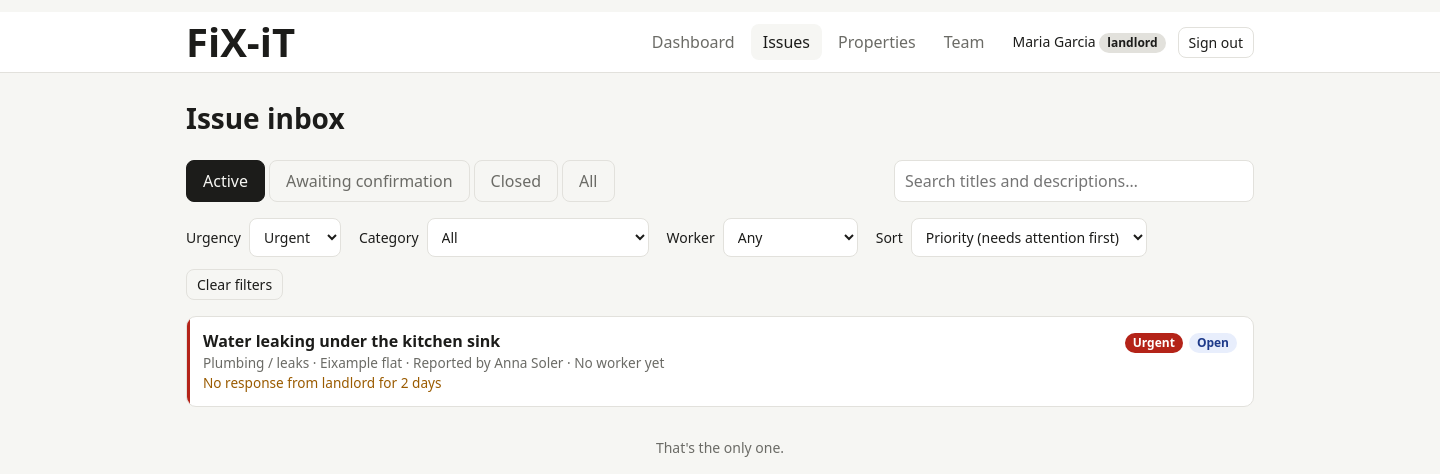
Test: pagination › search, urgency, category and sort go to the API and stay in the URL
Expected: the dropdown labelled "Urgency" shows "Urgent", [249,218,341,257]
Select "Plumbing / leaks" in the dropdown labelled "Category" at [538, 238], box [427,218,649,257]
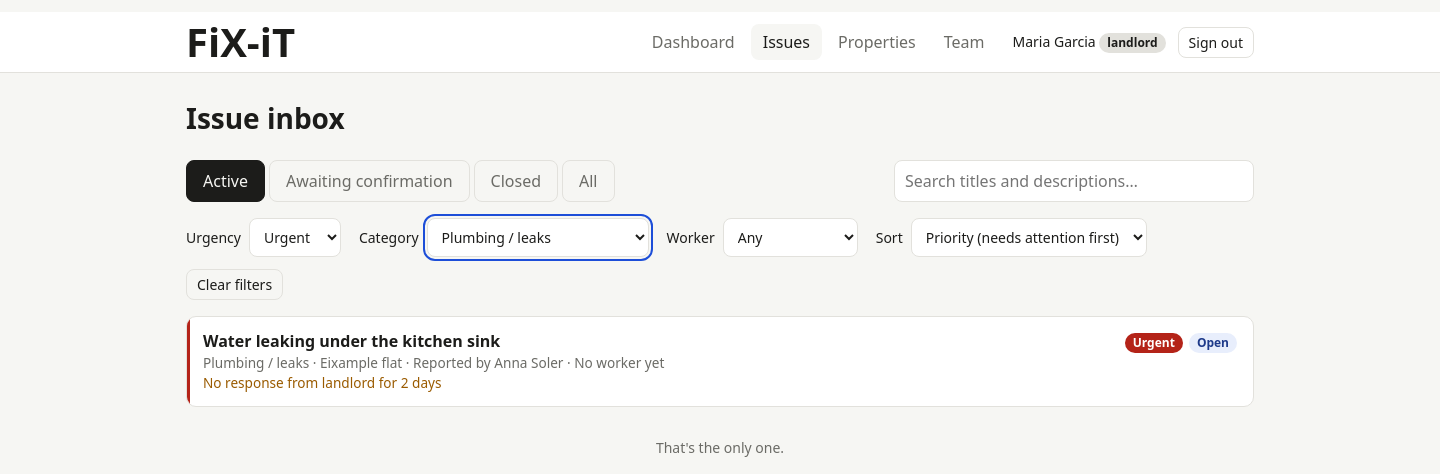
Select "Newest first" in the dropdown labelled "Sort" at [1029, 238], box [911,218,1147,257]
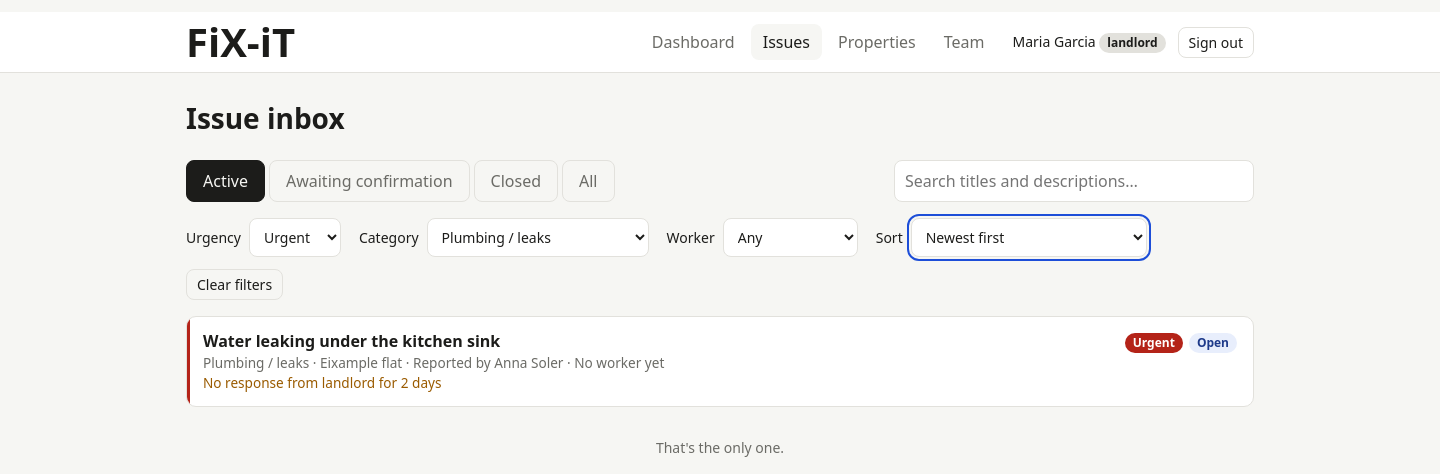
Type "leak" into the search field named "Search issues".
click(1074, 181); type("leak")  # box [894,160,1254,202]
Then press Enter
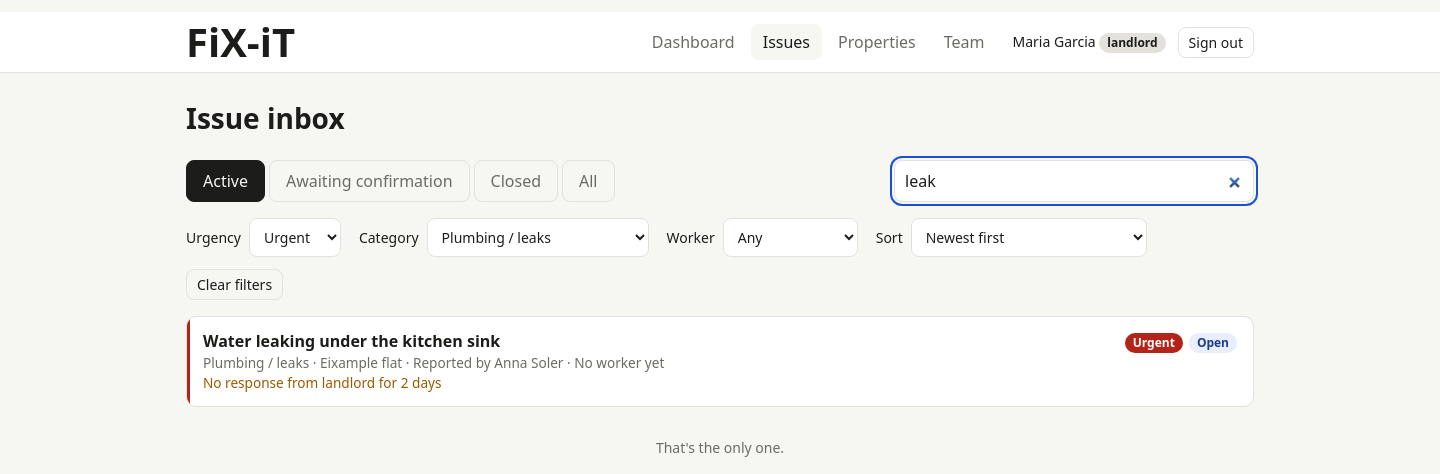
// "Clear filters" resets them all (the sort is kept: it isn't a filter).
Click the button "Clear filters".
click(235, 284)  # box [186,269,283,300]
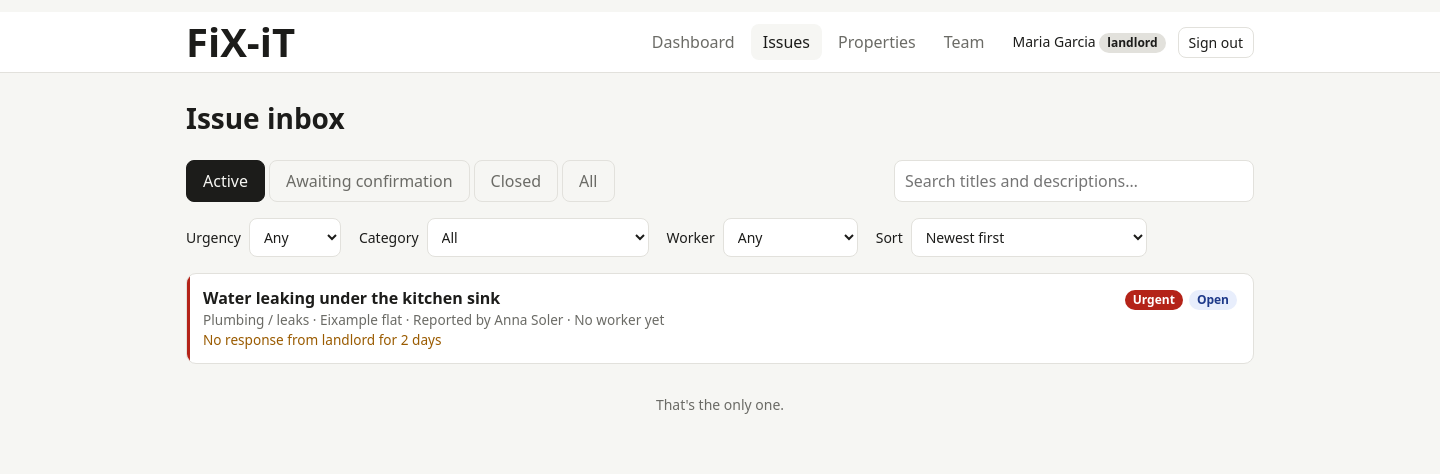
Expected: the search field named "Search issues" is empty, [894,160,1254,202]
